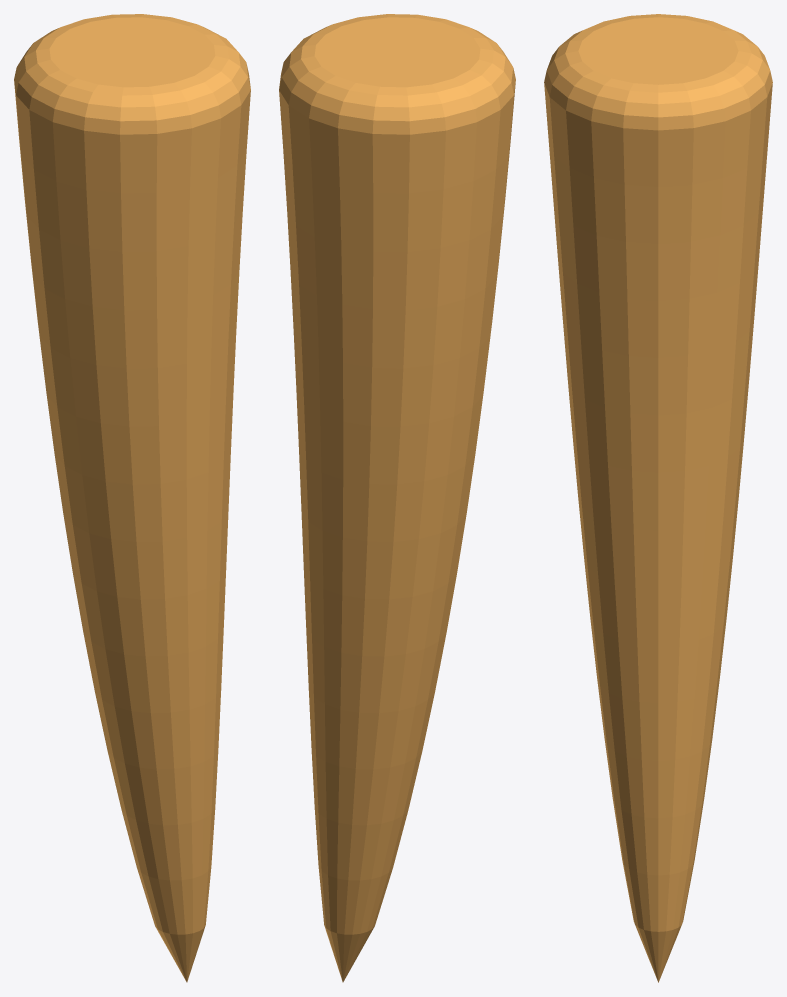
Rendered from carrot_v14.glb.
3 views of the same model, side by side, from view 1: azimuth 30°, elevation 25°; view 2: azimuth 150°, elevation 25°; view 3: azimuth 270°, elevation 25° (orthographic). The views are drawn at different scales.
Parts seen in each view (by area): view 1: root; view 2: root; view 3: root.
Boxes of the visible parts, left/top/right/bottom form: root: left=14, top=14, right=250, bottom=982; root: left=279, top=14, right=515, bottom=982; root: left=544, top=14, right=772, bottom=982.
Bounding box in the file's own units: 0.0355 × 0.1553 × 0.0355.
